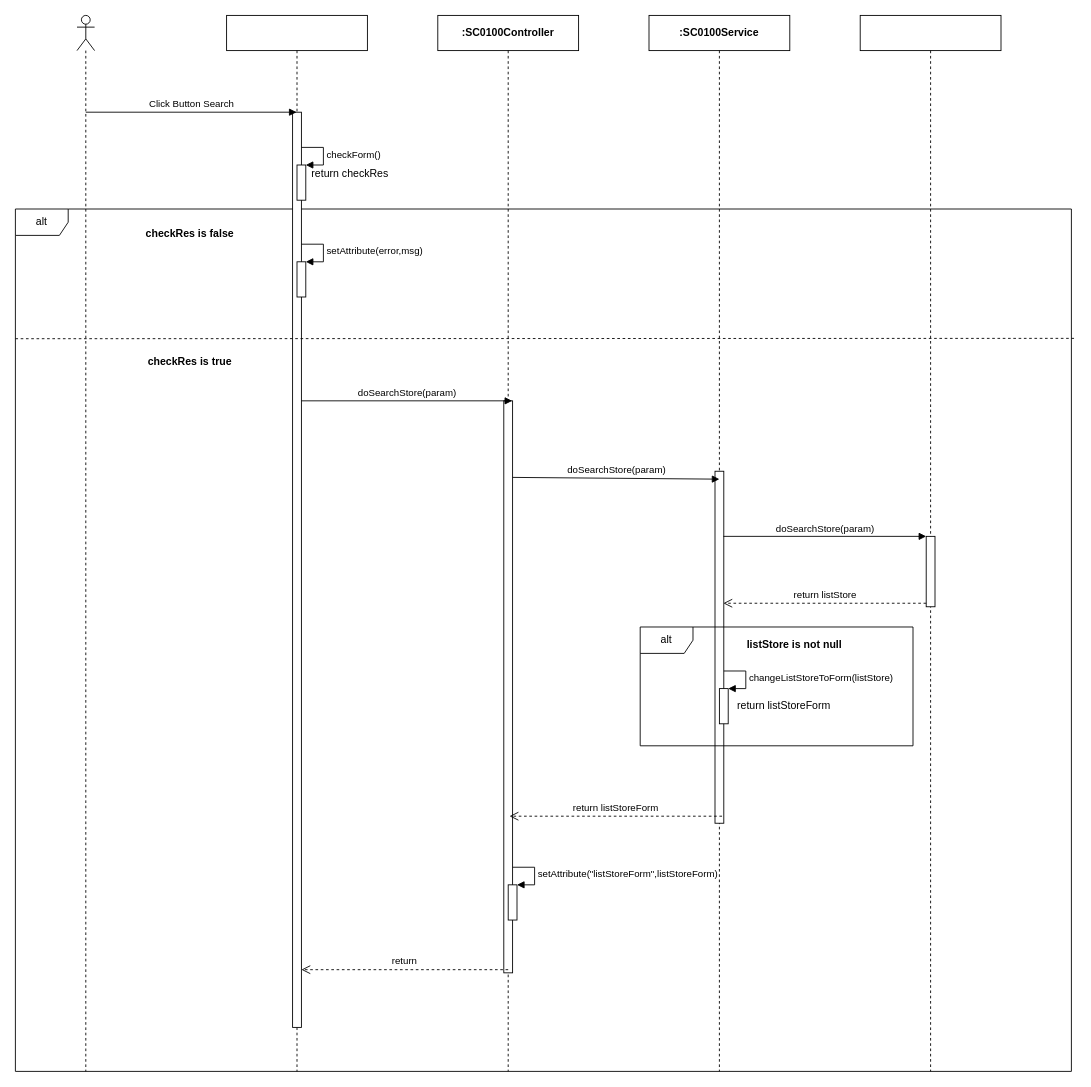
This 1091x1087 diagram has some shape labels left out. The box of each missing label's shape, as (x1, y1, x2, y2) in pixels:
:SC0100Page: (226, 15, 367, 1071)
:StoreDao: (859, 15, 1001, 1071)
